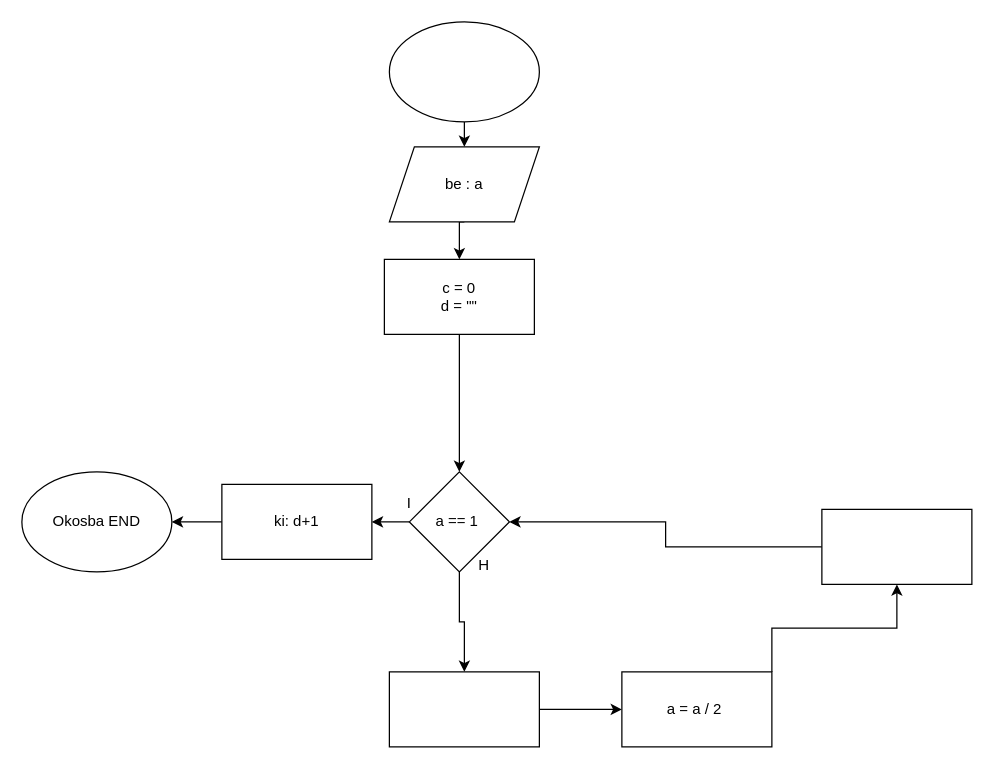
This 994x769 diagram has some shape labels left out. The centre of each missing label's shape, as x and y in pixels:
"c = a % 2" goes at (x=463, y=709).
"d = c + d" goes at (x=896, y=546).
"start" goes at (x=463, y=71).
